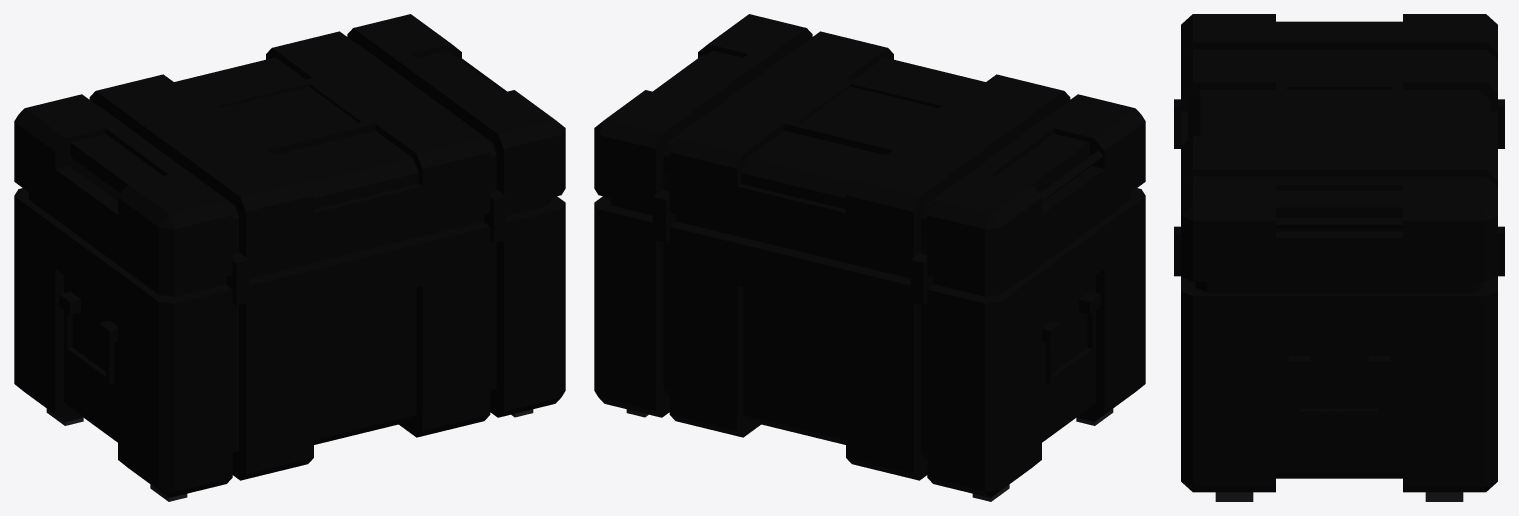
Rendered from Toolbox_closed.fbx.
3 renders of one model, left to right at view 1: azimuth 30°, elevation 25°; view 2: azimuth 150°, elevation 25°; view 3: azimuth 270°, elevation 25°, orthographic.
Parts seen in each view (by area): view 1: node_id4; view 2: node_id4; view 3: node_id4.
Boxes of the visible parts, bbox=[...] form: node_id4: bbox=[14, 14, 565, 501]; node_id4: bbox=[594, 14, 1145, 501]; node_id4: bbox=[1174, 14, 1504, 501].
Bounding box in the file's own units: 0.512 × 0.3553 × 0.3524.
1 material, 1 textured.
